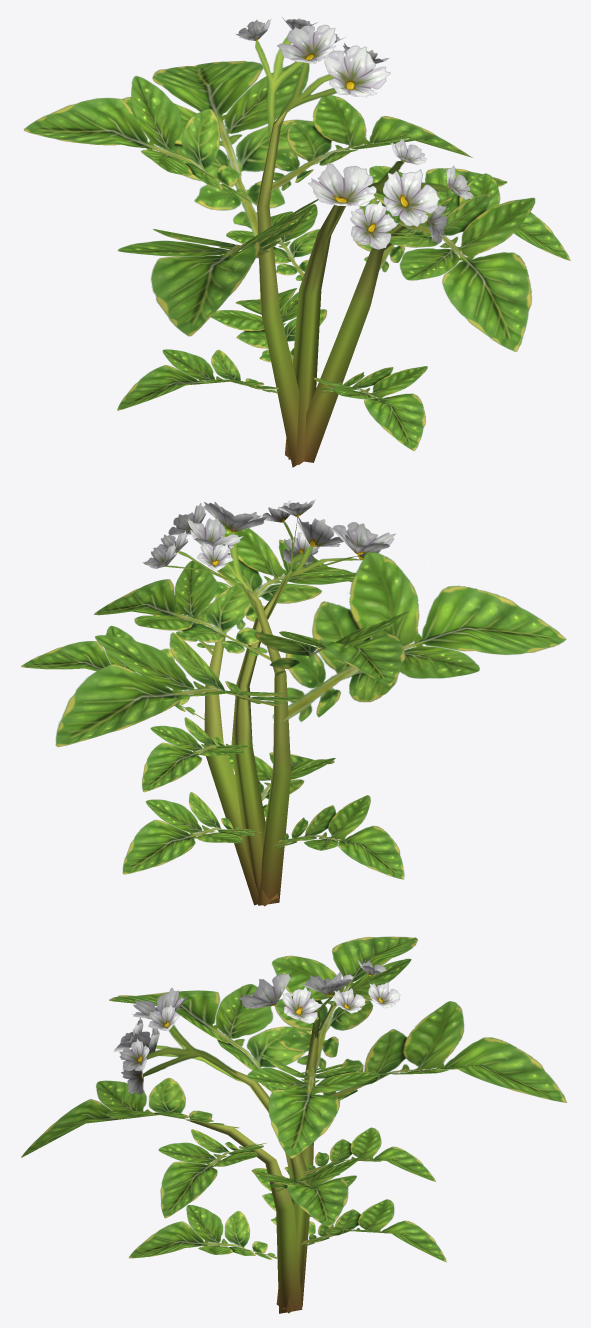
Rendered from plant_potato_S3.gltf.
3 views of the same model, one above another, from view 1: azimuth 30°, elevation 25°; view 2: azimuth 150°, elevation 25°; view 3: azimuth 270°, elevation 25° (orthographic). The views are drawn at different scales.
Visible parts, largest first — view 1: plant_potato_S3; view 2: plant_potato_S3; view 3: plant_potato_S3.
Part boxes in pixels (x1=…): plant_potato_S3: x1=24, y1=17, x2=570, y2=467; plant_potato_S3: x1=21, y1=499, x2=566, y2=906; plant_potato_S3: x1=21, y1=936, x2=566, y2=1313.
Bounding box in the file's own units: 0.8037 × 0.6911 × 0.9876.
1 material, 1 textured.
